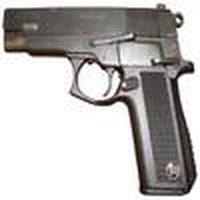gun: (2, 4, 199, 200)
